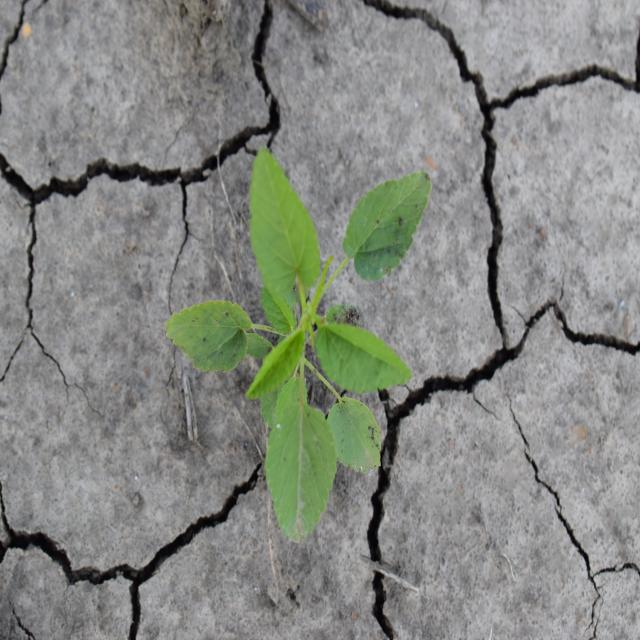PricklySida: (162, 143, 435, 546)
